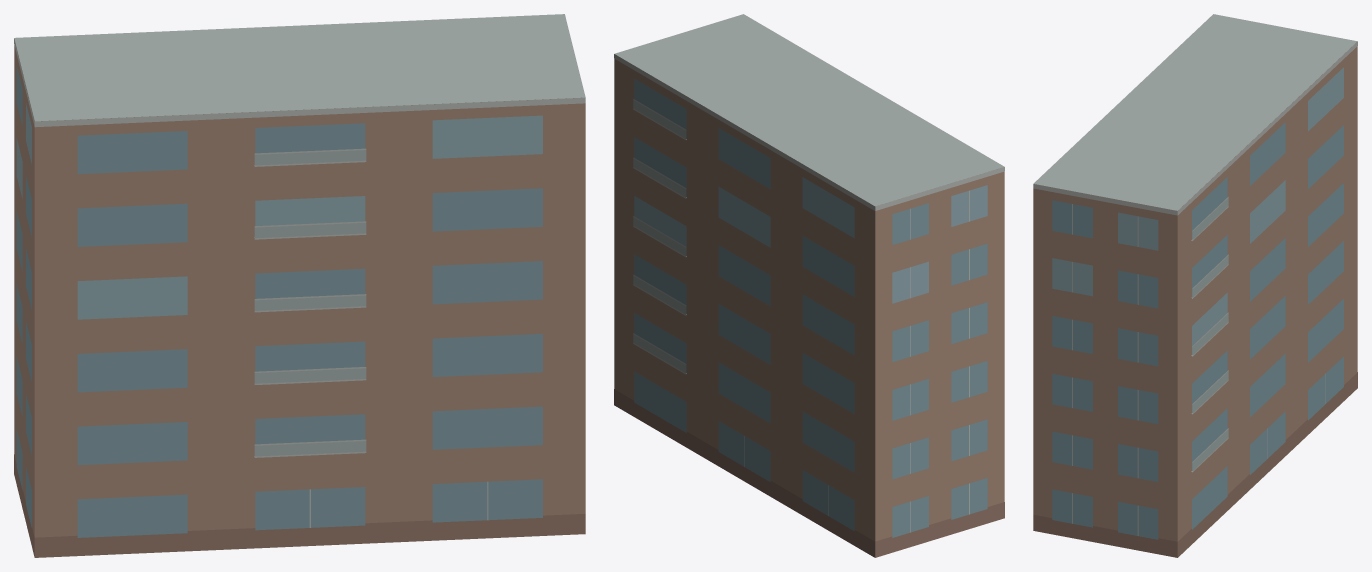
File: survey-upis-32972126.glb
The picture shows the model from 3 angles, left to right: view 1: azimuth 30°, elevation 25°; view 2: azimuth 150°, elevation 25°; view 3: azimuth 270°, elevation 25°; orthographic projection. The views are drawn at different scales.
Parts seen in each view (by area): view 1: survey-upis-32972126.tmp; view 2: survey-upis-32972126.tmp; view 3: survey-upis-32972126.tmp.
Boxes of the visible parts, bbox=[...] form: survey-upis-32972126.tmp: bbox=[14, 14, 585, 557]; survey-upis-32972126.tmp: bbox=[614, 14, 1004, 557]; survey-upis-32972126.tmp: bbox=[1033, 14, 1357, 557].
Size of the model in its own units: 22.28 by 18.3 by 15.52.
